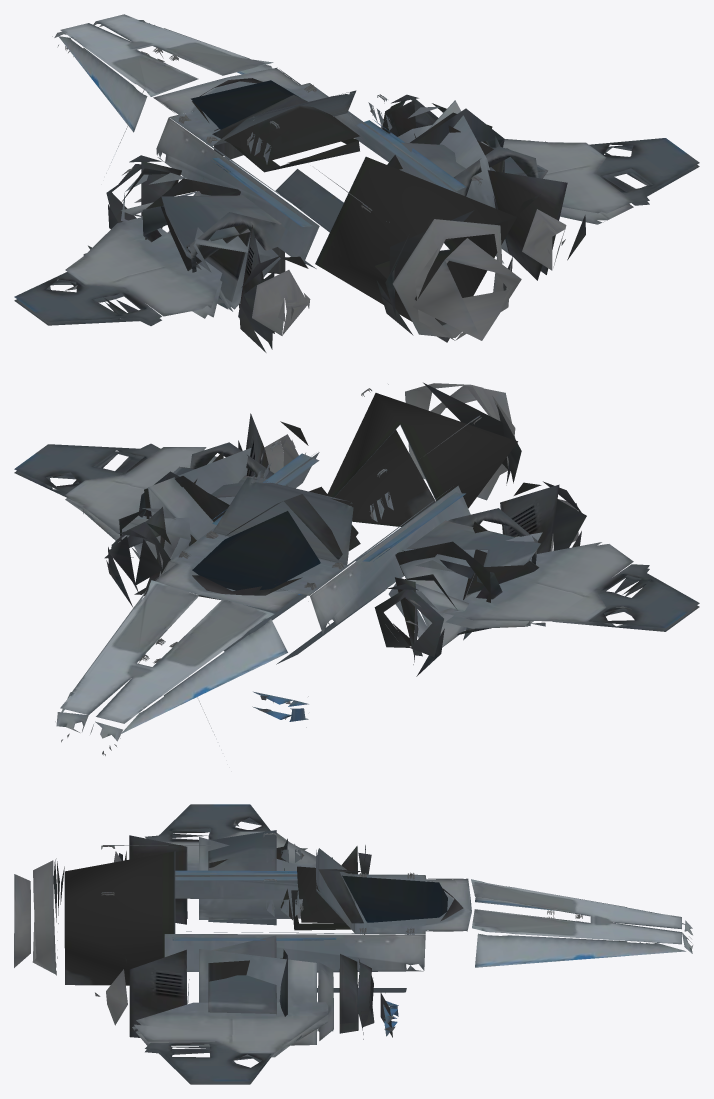
The picture shows the model from 3 angles, top to bottom: view 1: azimuth 30°, elevation 25°; view 2: azimuth 150°, elevation 25°; view 3: azimuth 270°, elevation 25°; orthographic projection. The views are drawn at different scales.
Parts seen in each view (by area): view 1: cb1-lod.575; view 2: cb1-lod.575; view 3: cb1-lod.575.
Part boxes in pixels (x1,y1,x2,y2): cb1-lod.575: (14,14,699,352); cb1-lod.575: (14,382,699,755); cb1-lod.575: (14,804,692,1084).
Size of the model in its own units: 1.15 by 0.3657 by 1.2.
Materials: 1 (1 with a texture image).
